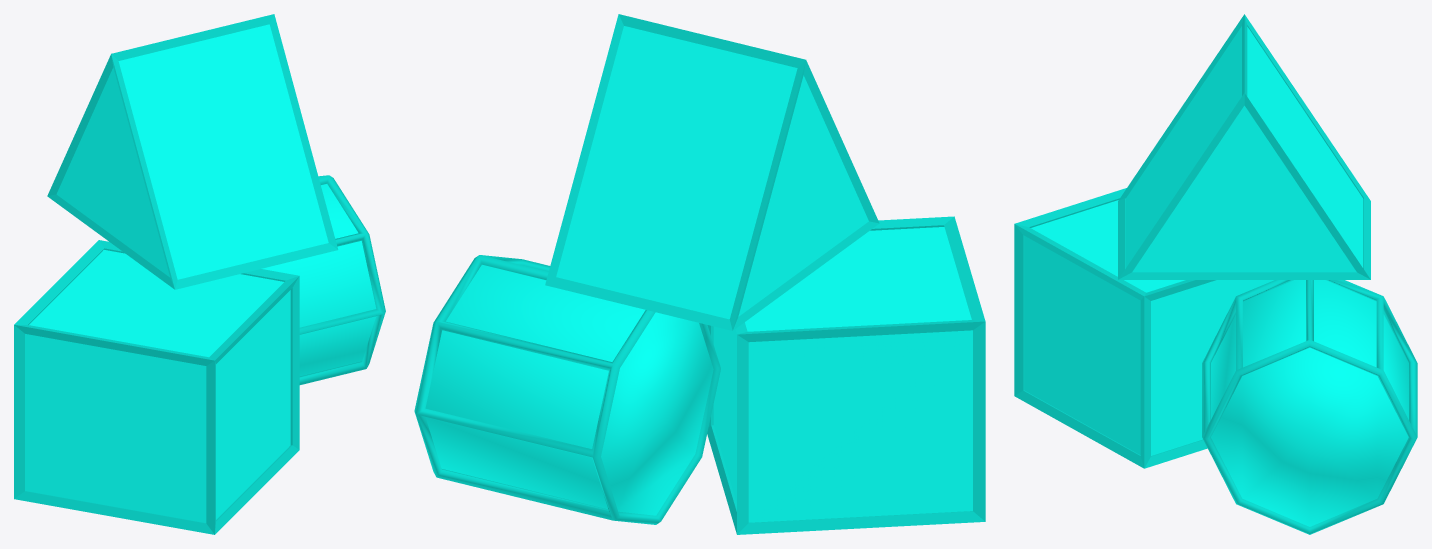
The model's file is kit_icon_holographic.glb.
The picture shows the model from 3 angles, left to right: view 1: azimuth 30°, elevation 25°; view 2: azimuth 150°, elevation 25°; view 3: azimuth 270°, elevation 25°; orthographic projection. The views are drawn at different scales.
Visible parts, largest first — view 1: Cube_lowpoly_applied, triangle_lowpoly_applied, cylinder_lowpoly_applied; view 2: Cube_lowpoly_applied, triangle_lowpoly_applied, cylinder_lowpoly_applied; view 3: cylinder_lowpoly_applied, triangle_lowpoly_applied, Cube_lowpoly_applied.
Part boxes in pixels (<box>): Cube_lowpoly_applied: <box>14,240,299,534</box>; triangle_lowpoly_applied: <box>47,14,338,289</box>; cylinder_lowpoly_applied: <box>261,175,385,384</box>; Cube_lowpoly_applied: <box>707,216,985,534</box>; triangle_lowpoly_applied: <box>545,14,879,330</box>; cylinder_lowpoly_applied: <box>414,255,720,524</box>; cylinder_lowpoly_applied: <box>1202,280,1417,534</box>; triangle_lowpoly_applied: <box>1118,14,1370,279</box>; Cube_lowpoly_applied: <box>1014,188,1274,468</box>.
Size of the model in its own units: 1.82 by 1.84 by 1.68.
